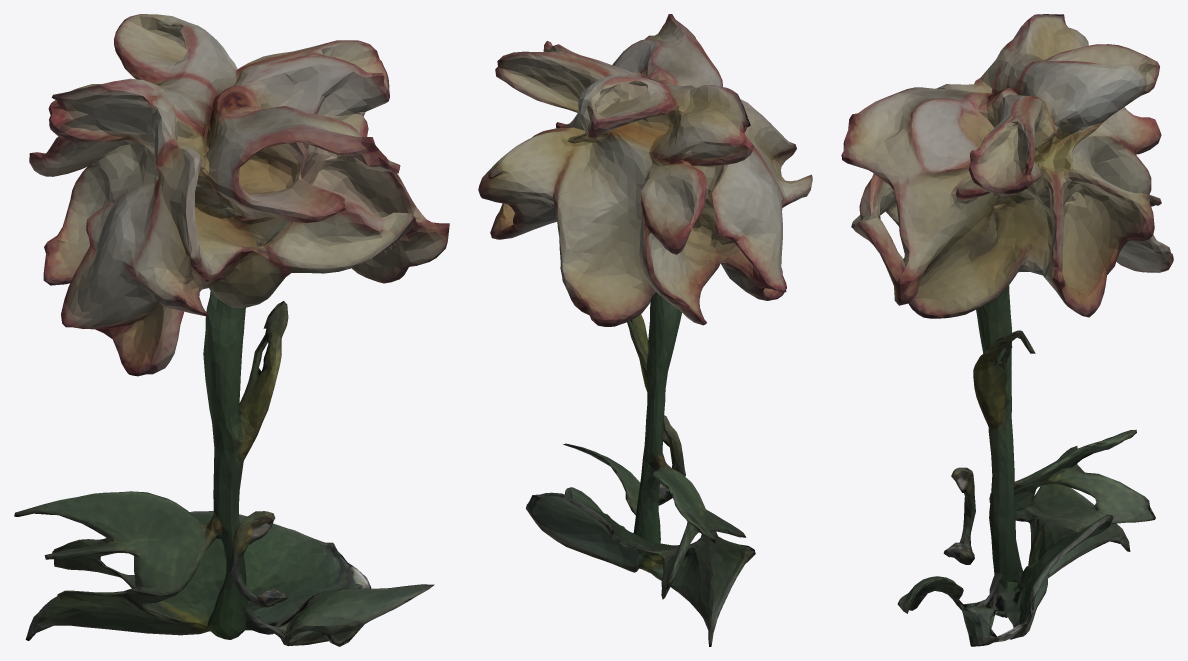
The picture shows the model from 3 angles, left to right: view 1: azimuth 30°, elevation 25°; view 2: azimuth 150°, elevation 25°; view 3: azimuth 270°, elevation 25°; orthographic projection. The views are drawn at different scales.
Parts seen in each view (by area): view 1: world; view 2: world; view 3: world.
Part boxes in pixels (x1,y1,x2,y2): world: [14, 14, 449, 646]; world: [478, 14, 812, 646]; world: [841, 14, 1173, 646].
Size of the model in its own units: 0.5432 by 0.9467 by 0.517.
1 material, 1 textured.
